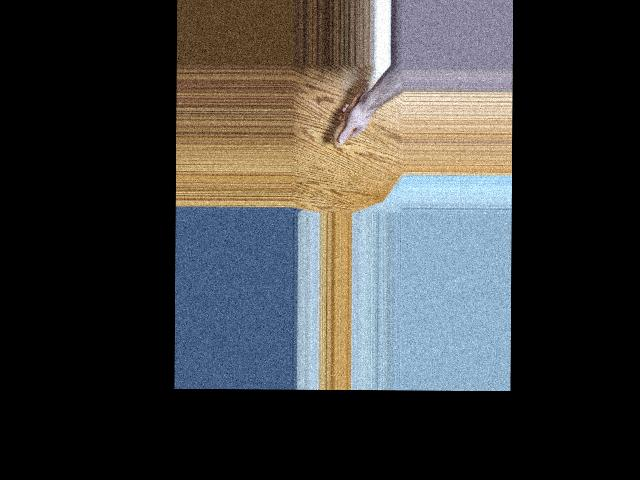sweet_potato: (330, 73, 372, 148)
